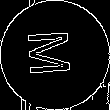M_E: (28, 30, 82, 80)
